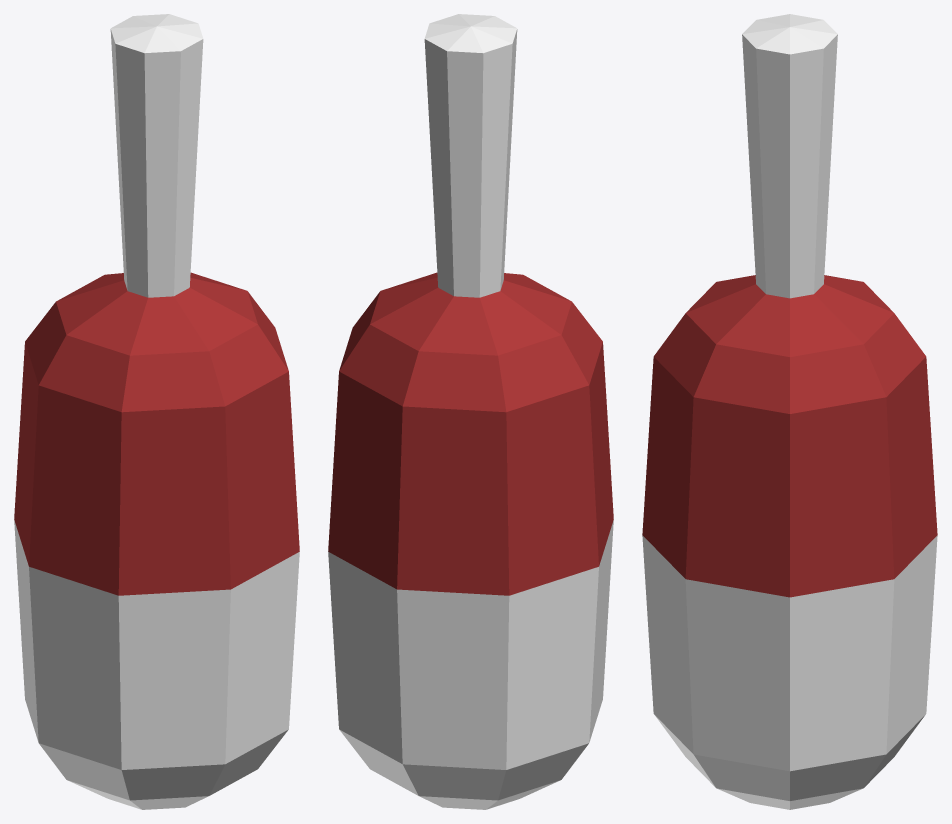
Rendered from Float.fbx.
3 views of the same model, side by side, from view 1: azimuth 30°, elevation 25°; view 2: azimuth 150°, elevation 25°; view 3: azimuth 270°, elevation 25° (orthographic).
Parts seen in each view (by area): view 1: Float; view 2: Float; view 3: Float.
Part boxes in pixels (x1,y1,x2,y2): Float: [14, 14, 299, 809]; Float: [328, 14, 613, 809]; Float: [642, 14, 937, 809].
Bounding box in the file's own units: 0.21 × 0.6037 × 0.21.
